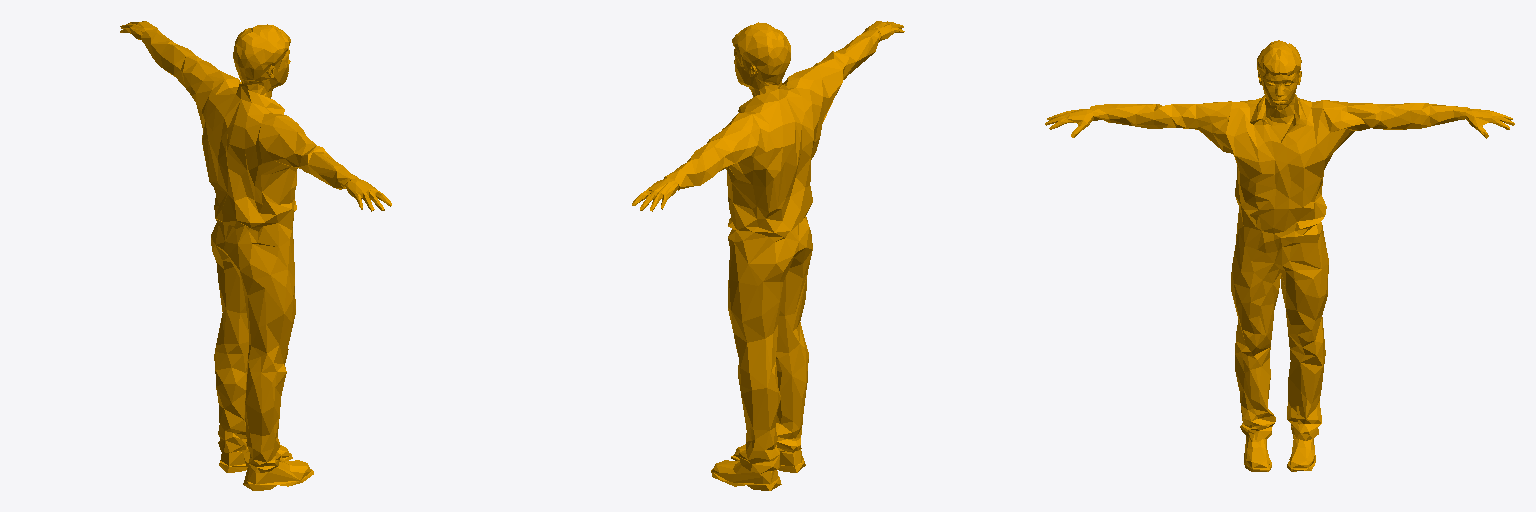
robot.urdf — human:
<?xml version="1.0"?>
<!--
  A rigid human standing in a T-pose, 1.74 m tall with an arm span of 1.81 m.
  The origin lies between the feet on the floor, x points to the front of the human, z up.
  The parts are drawn from their meshes; the human collides as a box for the body and a
  box for the outstretched arms.
-->
<robot name="human">
  <link name="human">
    <visual>
      <origin xyz="0 0 0" rpy="0 0 1.5707963"/>
      <geometry><mesh filename="body.obj"/></geometry>
    </visual>
    <visual>
      <origin xyz="0 0 0" rpy="0 0 1.5707963"/>
      <geometry><mesh filename="clothes.obj"/></geometry>
    </visual>
    <visual>
      <origin xyz="0 0 0" rpy="0 0 1.5707963"/>
      <geometry><mesh filename="shoes.obj"/></geometry>
    </visual>
    <visual>
      <origin xyz="0 0 0" rpy="0 0 1.5707963"/>
      <geometry><mesh filename="hair.obj"/></geometry>
    </visual>
    <collision>
      <origin xyz="0 0 0.872" rpy="0 0 0"/>
      <geometry><box size="0.3 0.5 1.743"/></geometry>
    </collision>
    <collision>
      <origin xyz="0 0 1.416" rpy="0 0 0"/>
      <geometry><box size="0.15 1.812 0.109"/></geometry>
    </collision>
  </link>
</robot>

--- Facts derived from the render (not from the file) ---
Views: 3 orthographic renders of the robot side by side, from view 1: azimuth 30°, elevation 25°; view 2: azimuth 150°, elevation 25°; view 3: azimuth 270°, elevation 25°.
Model human with 1 links and 0 joints (none), rooted at human, posed every joint at zero.
Visible links, largest first — view 1: human; view 2: human; view 3: human.
Link boxes in pixels (bbox=[...]): human: bbox=[120, 21, 391, 490]; human: bbox=[632, 21, 904, 490]; human: bbox=[1045, 40, 1514, 471].
Size in the robot's own frame: 0.3315 by 1.81 by 1.75 metres.
4 mesh visuals loaded from 4 distinct referenced files (4 OBJ).
